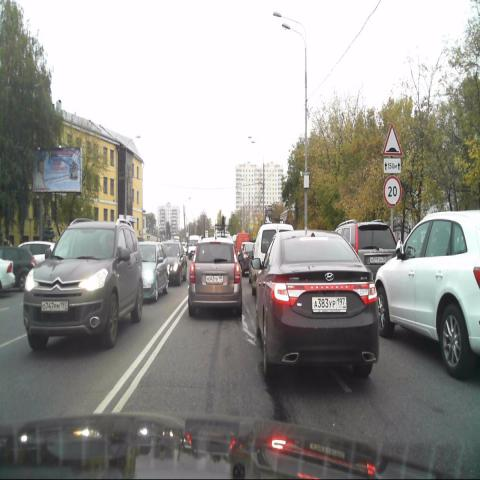1_17: (380, 124, 404, 155)
3_24: (383, 175, 401, 206)
8_2_1: (384, 158, 400, 174)
